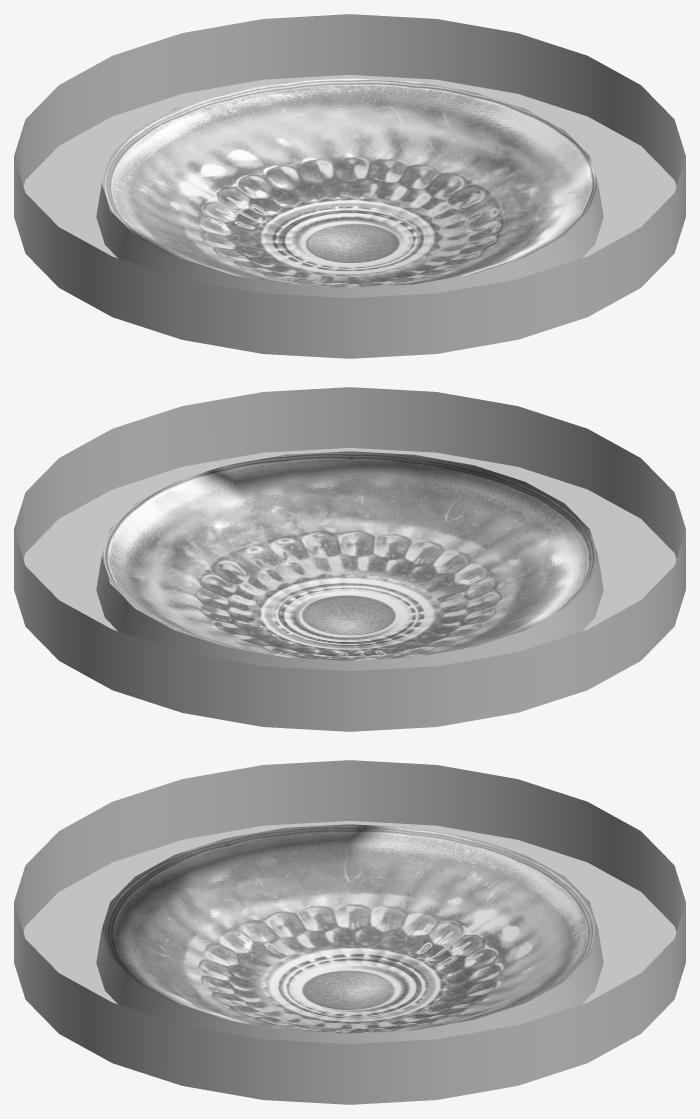
Rendered from light_01.fbx.
3 views of the same model, one above another, from view 1: azimuth 30°, elevation 25°; view 2: azimuth 150°, elevation 25°; view 3: azimuth 270°, elevation 25° (orthographic).
Visible parts, largest first — view 1: Light_01; view 2: Light_01; view 3: Light_01.
Boxes of the visible parts, <box> form: Light_01: <box>14,14,685,358</box>; Light_01: <box>14,387,685,731</box>; Light_01: <box>14,760,685,1104</box>.
Size of the model in its own units: 0.1602 by 0.0243 by 0.1602.
